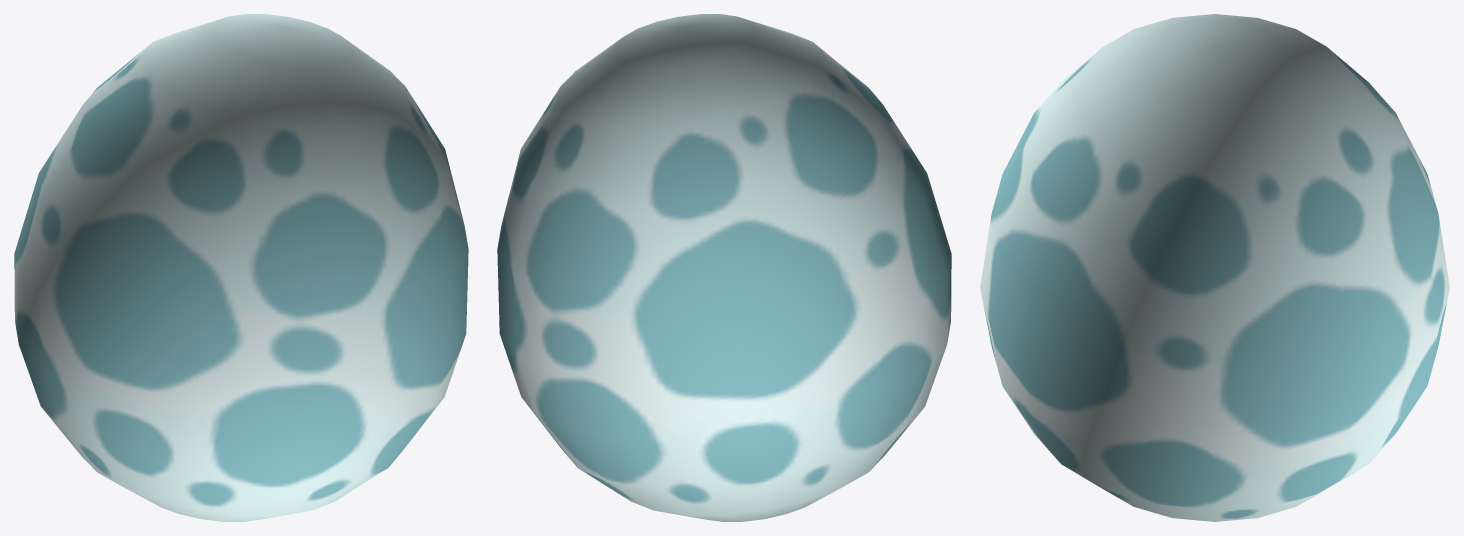
Rendered from icon1.ico.obj.
3 views of the same model, side by side, from view 1: azimuth 30°, elevation 25°; view 2: azimuth 150°, elevation 25°; view 3: azimuth 270°, elevation 25° (orthographic). The views are drawn at different scales.
Size of the model in its own units: 2.99 by 3.33 by 3.
Materials: 1 (1 with a texture image).
